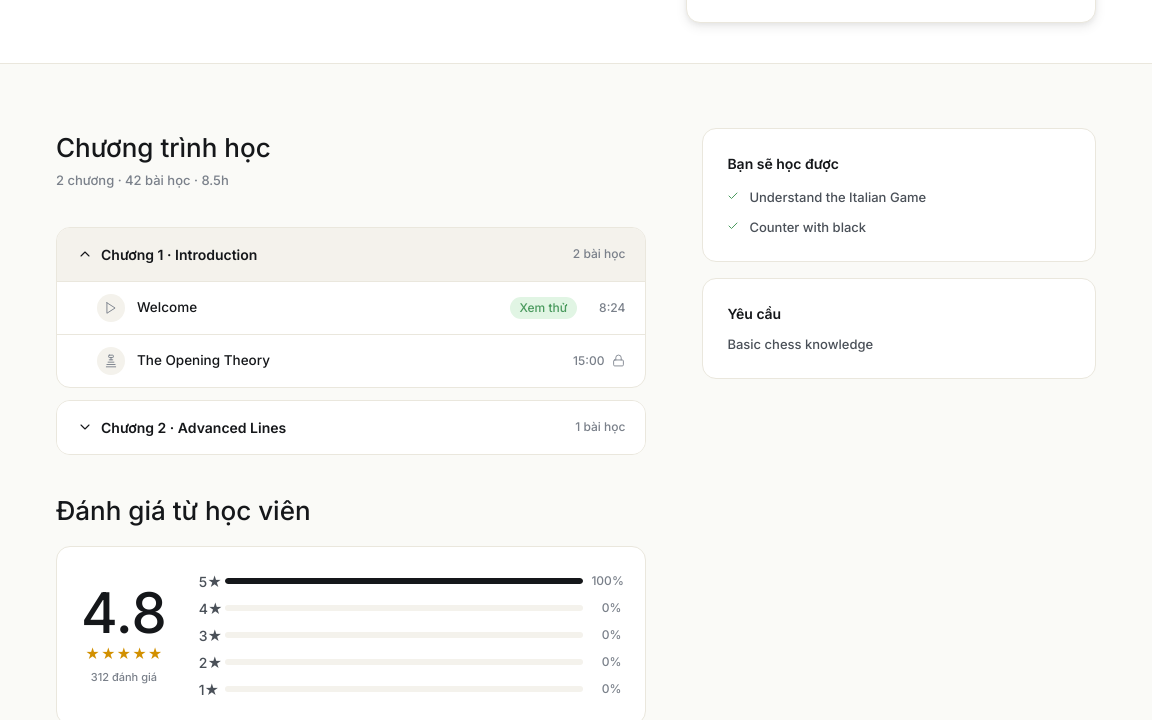
CourseDetailPage › free preview interaction › paywall sheet can be closed via back link
The width and height of the screenshot is (1152, 720).
(page scrolled)
Click the button with test id "lock-icon-l2" at (619,360), box 612,354 -> 625,367
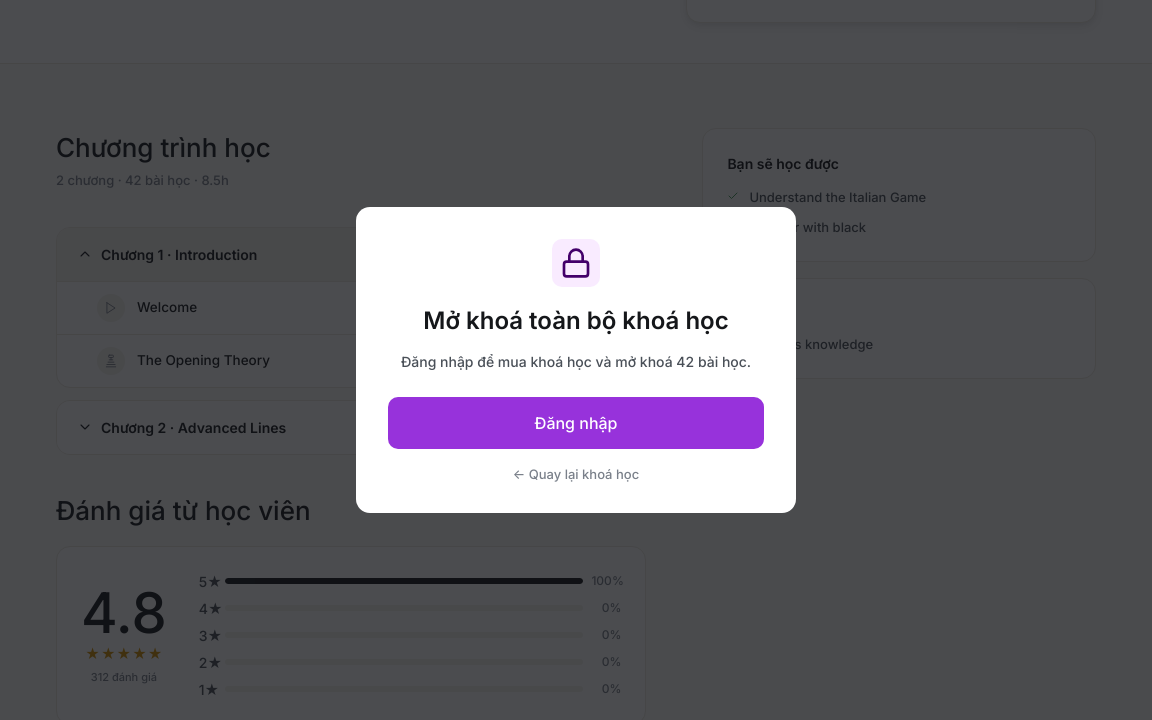
expect the button with test id "paywall-back" is shown: met
Click the button with test id "paywall-back" at (576,475), box 513,465 -> 639,484
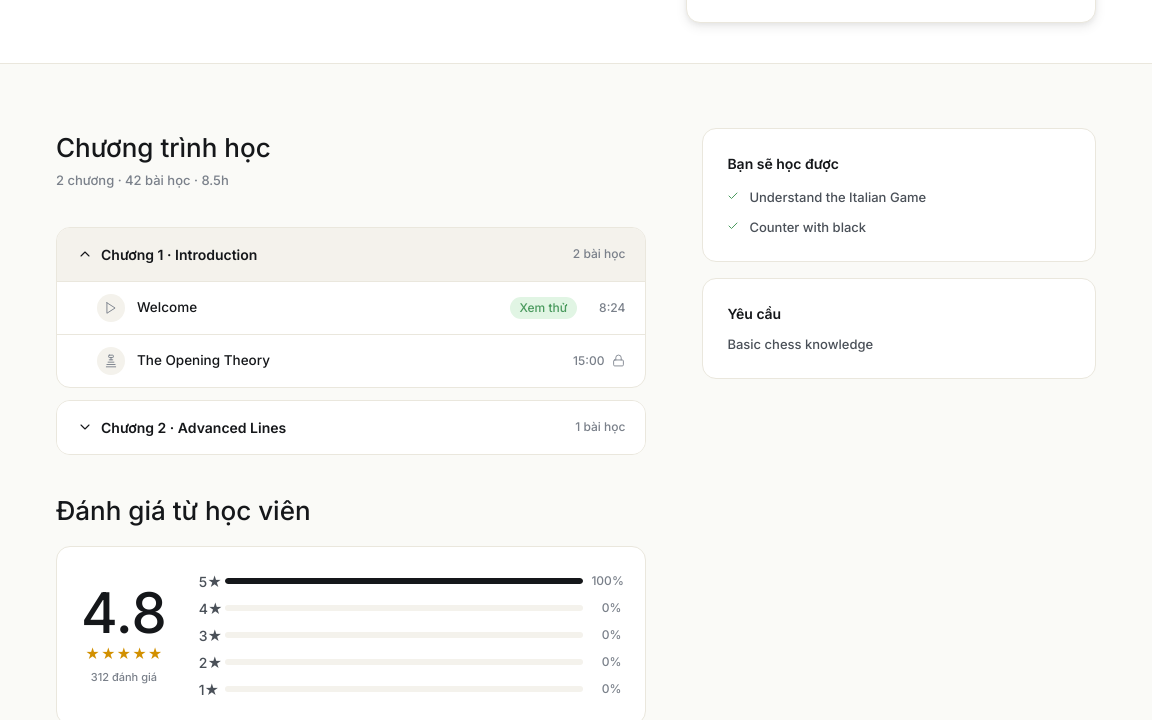
expect the heading with test id "paywall-sheet-title" is gone: met
